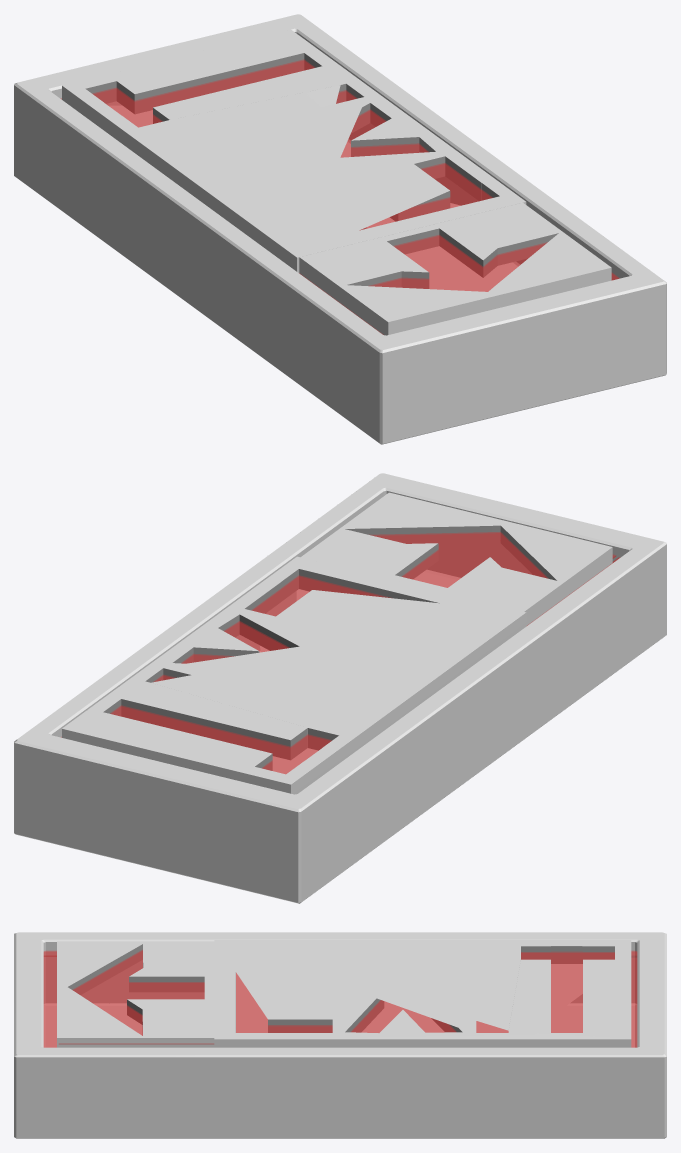
File: ExitL.fbx
The picture shows the model from 3 angles, top to bottom: view 1: azimuth 30°, elevation 25°; view 2: azimuth 150°, elevation 25°; view 3: azimuth 270°, elevation 25°; orthographic projection. The views are drawn at different scales.
Visible parts, largest first — view 1: polySurface28; view 2: polySurface28; view 3: polySurface28.
Part boxes in pixels (x1,y1,x2,y2): polySurface28: [14, 14, 666, 444]; polySurface28: [14, 473, 666, 903]; polySurface28: [14, 932, 666, 1138].
Bounding box in the file's own units: 4.15 × 1.36 × 9.2.
